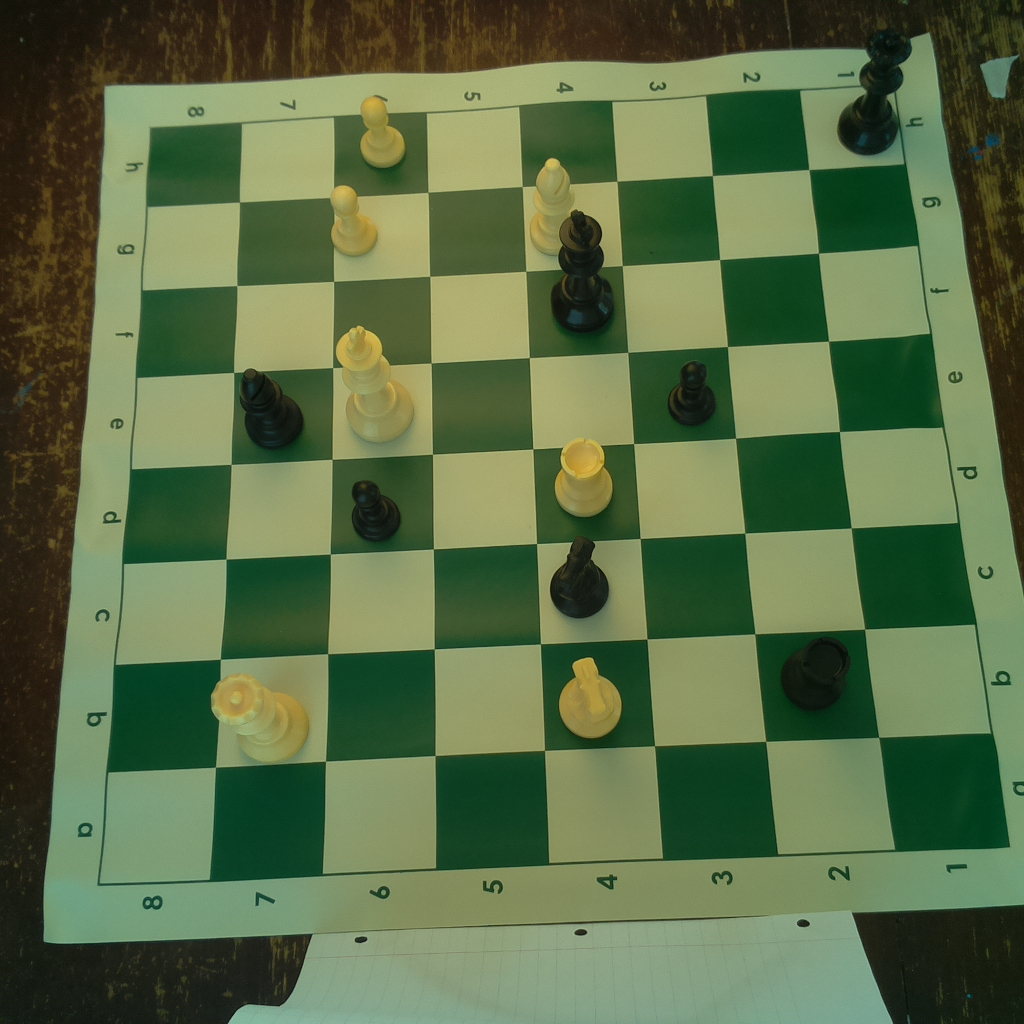black_bishop: (236, 365, 307, 449)
black_king: (549, 206, 616, 336)
black_knight: (544, 531, 616, 621)
black_pawn: (347, 479, 407, 541), (670, 358, 719, 428)
black_queen: (837, 26, 914, 157)
black_rook: (777, 630, 858, 713)
file_a: (99, 735, 1010, 886)
file_b: (106, 623, 993, 774)
file_c: (115, 522, 975, 664)
file_d: (123, 426, 959, 567)
file_e: (132, 334, 945, 469)
file_f: (138, 247, 931, 375)
file_g: (142, 165, 920, 290)
file_h: (146, 86, 907, 206)
outline: (98, 84, 1010, 887)
rank_1: (799, 84, 1011, 854)
rank_2: (705, 90, 894, 853)
rank_3: (612, 93, 781, 860)
rank_4: (519, 100, 667, 861)
rank_5: (427, 106, 553, 871)
rank_6: (319, 114, 436, 873)
rank_7: (211, 115, 334, 884)
rank_8: (97, 121, 241, 887)
white_bishop: (524, 153, 590, 256)
white_king: (328, 321, 420, 444)
white_knight: (550, 648, 628, 745)
white_pawn: (323, 179, 380, 262), (358, 97, 408, 170)
white_queen: (207, 671, 314, 765)
white_rook: (546, 432, 618, 523)
